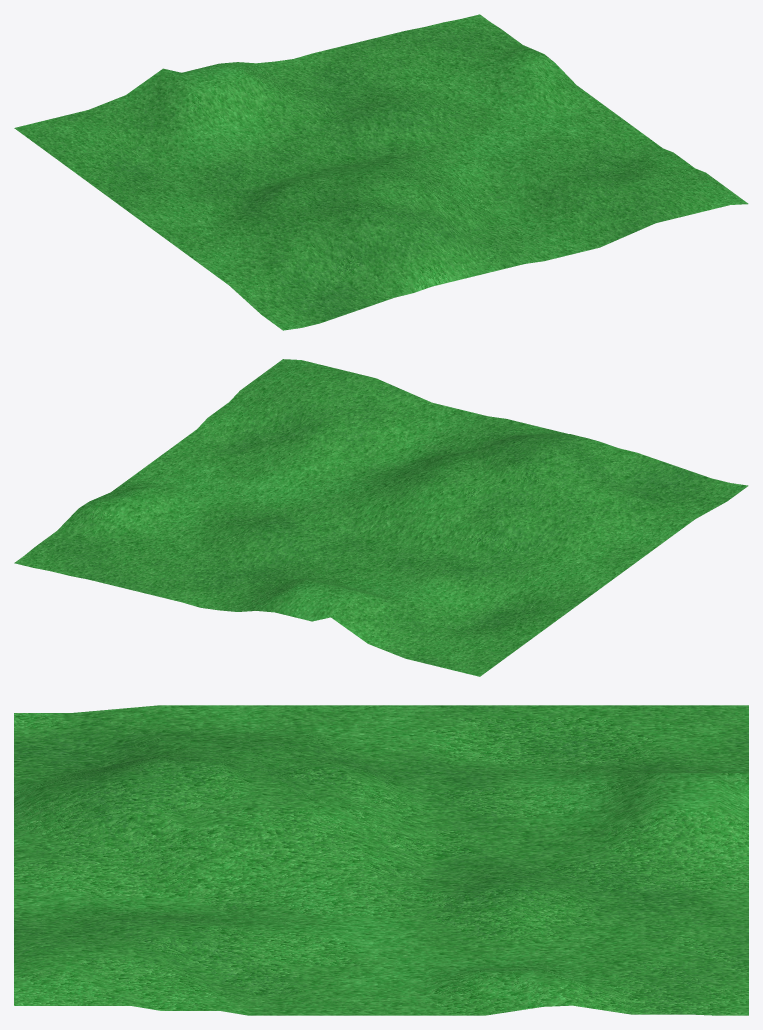
The model's file is grassyLand.fbx.
3 renders of one model, top to bottom at view 1: azimuth 30°, elevation 25°; view 2: azimuth 150°, elevation 25°; view 3: azimuth 270°, elevation 25°, orthographic. The views are drawn at different scales.
Visible parts, largest first — view 1: landscape_plane; view 2: landscape_plane; view 3: landscape_plane.
Part boxes in pixels (x1=…): landscape_plane: x1=14, y1=14, x2=748, y2=330; landscape_plane: x1=14, y1=359, x2=748, y2=676; landscape_plane: x1=14, y1=705, x2=748, y2=1015.
Bounding box in the file's own units: 34.64 × 2.75 × 34.64.
